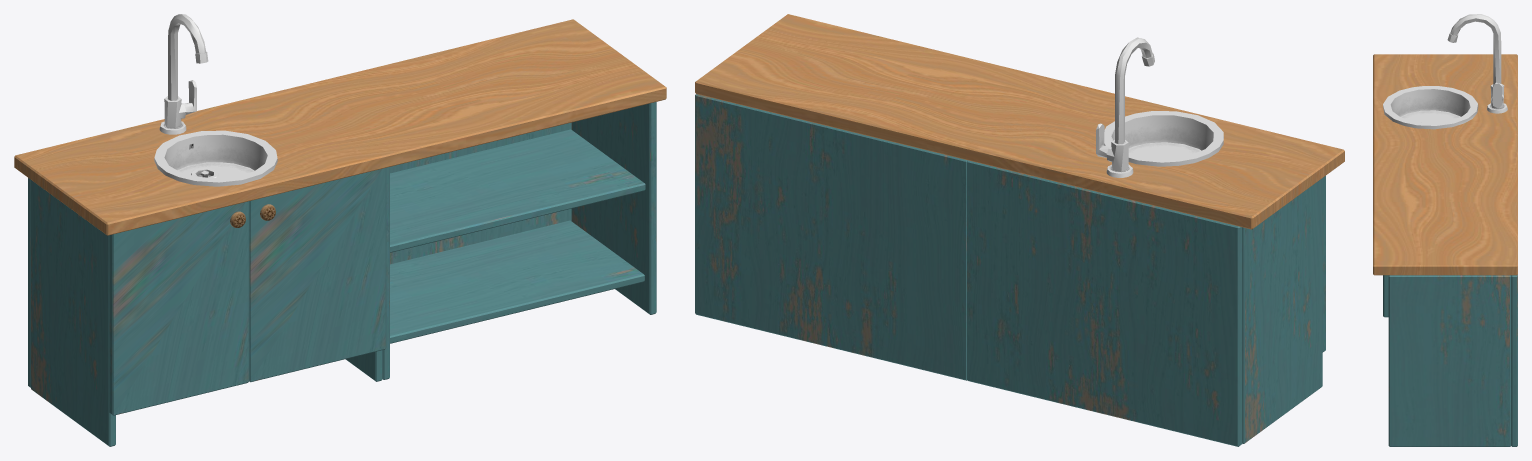
Rendered from sink_v2.glb.
The picture shows the model from 3 angles, left to right: view 1: azimuth 30°, elevation 25°; view 2: azimuth 150°, elevation 25°; view 3: azimuth 270°, elevation 25°; orthographic projection. The views are drawn at different scales.
Parts seen in each view (by area): view 1: CabinetTable_A.004_Material_0.001, Cabinet_FrontA.006_Material_0.001, Cabinet_Shelf_A.008_Material_0.001, Cabinet_Shelf_A.006_Material_0.001, Cabinet_Side_B.007_Material_0.001, Cabinet_Side_B.009_Material_0.001, Sink.001_Sink_0.001, Cabinet_Back_B.004_Material_0.001, Faucet.001_Sink_0.001, Cabinet_Side_B.008_Material_0.001; view 2: Cabinet_Back_B.003_Material_0.001, Cabinet_Back_B.004_Material_0.001, CabinetTable_A.004_Material_0.001, Cabinet_Side_B.007_Material_0.001, Sink.001_Sink_0.001, Faucet.001_Sink_0.001, Cabinet_FrontA.006_Material_0.001; view 3: CabinetTable_A.004_Material_0.001, Cabinet_Side_B.009_Material_0.001, Sink.001_Sink_0.001, Faucet.001_Sink_0.001, Cabinet_Back_B.004_Material_0.001, Cabinet_FrontA.006_Material_0.001.
Part boxes in pixels (x1,y1,x2,y2): CabinetTable_A.004_Material_0.001: [14, 19, 666, 235]; Cabinet_FrontA.006_Material_0.001: [109, 168, 386, 415]; Cabinet_Shelf_A.008_Material_0.001: [390, 129, 645, 252]; Cabinet_Shelf_A.006_Material_0.001: [390, 220, 644, 343]; Cabinet_Side_B.007_Material_0.001: [31, 180, 115, 446]; Cabinet_Side_B.009_Material_0.001: [571, 102, 656, 314]; Sink.001_Sink_0.001: [154, 130, 277, 186]; Cabinet_Back_B.004_Material_0.001: [390, 122, 571, 264]; Faucet.001_Sink_0.001: [159, 14, 208, 134]; Cabinet_Side_B.008_Material_0.001: [345, 167, 389, 381]; Cabinet_Back_B.003_Material_0.001: [967, 160, 1242, 446]; Cabinet_Back_B.004_Material_0.001: [695, 94, 967, 380]; CabinetTable_A.004_Material_0.001: [695, 14, 1344, 229]; Cabinet_Side_B.007_Material_0.001: [1242, 178, 1322, 443]; Sink.001_Sink_0.001: [1104, 111, 1223, 166]; Faucet.001_Sink_0.001: [1096, 37, 1154, 177]; Cabinet_FrontA.006_Material_0.001: [1322, 176, 1325, 352]; CabinetTable_A.004_Material_0.001: [1373, 54, 1517, 275]; Cabinet_Side_B.009_Material_0.001: [1388, 275, 1511, 446]; Sink.001_Sink_0.001: [1383, 86, 1478, 129]; Faucet.001_Sink_0.001: [1447, 14, 1507, 113]; Cabinet_Back_B.004_Material_0.001: [1511, 274, 1517, 446]; Cabinet_FrontA.006_Material_0.001: [1383, 275, 1388, 317].
Bounding box in the file's own units: 2.25 × 1.37 × 0.65.
2 materials, 2 textured.
